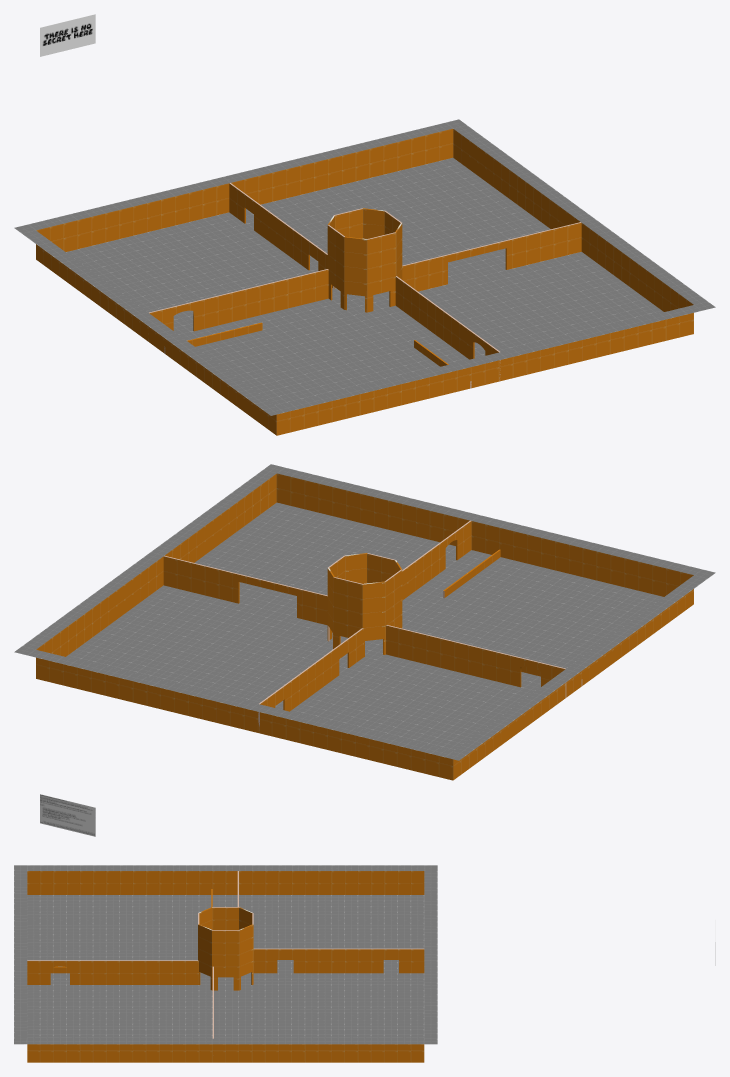
File: Arena.glb
3 views of the same model, one above another, from view 1: azimuth 30°, elevation 25°; view 2: azimuth 150°, elevation 25°; view 3: azimuth 270°, elevation 25° (orthographic). The views are drawn at different scales.
Visible parts, largest first — view 1: Map; view 2: Map; view 3: Map.
Part boxes in pixels (left/top/right/bottom): Map: left=14, top=14, right=715, bottom=435; Map: left=14, top=464, right=715, bottom=836; Map: left=14, top=865, right=715, bottom=1062.
Size of what is drawn, in the model's own units: 64 by 10 by 106.
Materials: 3 (3 with a texture image).
